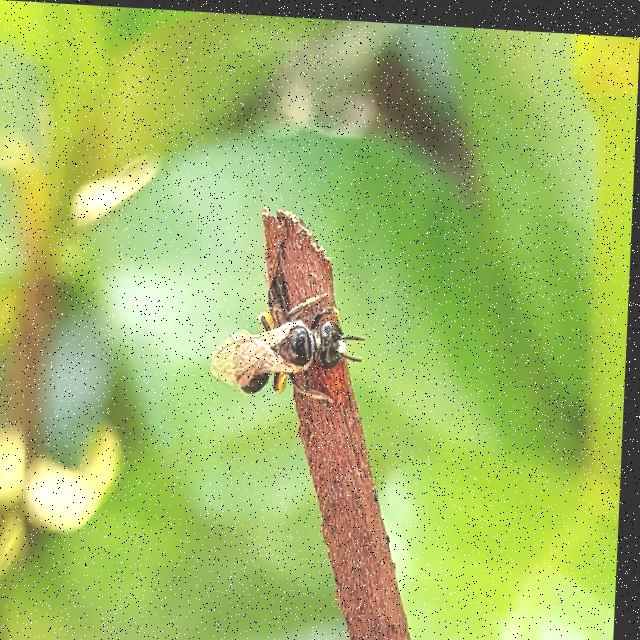Braunsapis: (217, 264, 385, 405)
